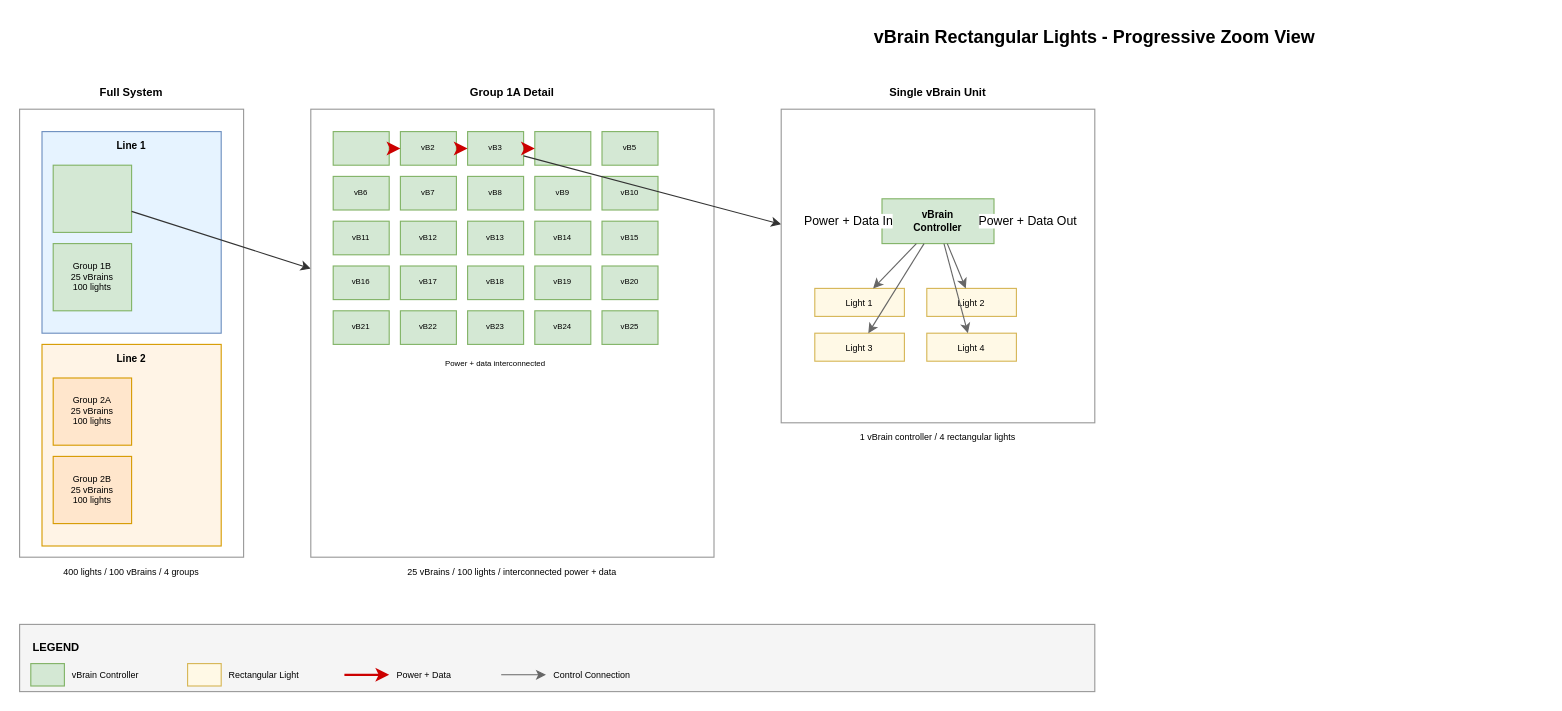
Image size: 1562x711. Some labels were removed from this diagram. The shapes that lost their labels are listed below. From the top down, each one's centre as x and y in pixels, then its label:
At [360,147]: "vB1".
At [562,147]: "vB4".
At [92,198]: "Group 1A 25 vBrains 100 lights".
